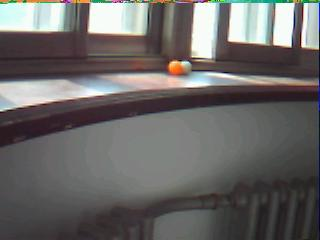oball: (168, 60, 182, 75)
